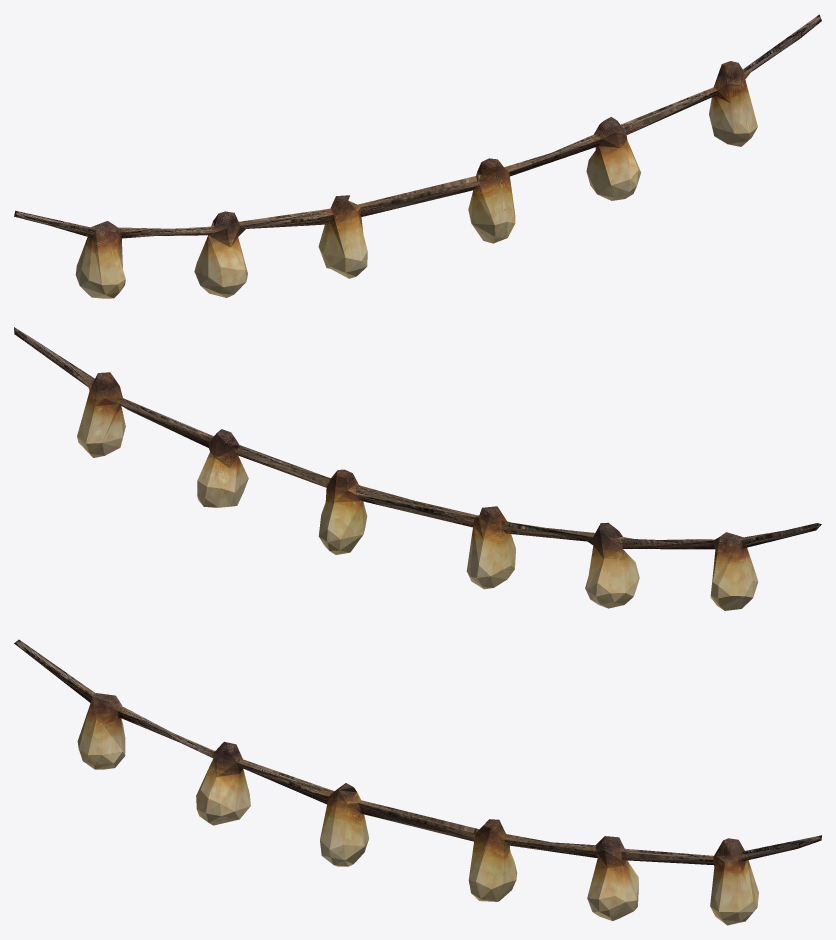
3 renders of one model, top to bottom at view 1: azimuth 30°, elevation 25°; view 2: azimuth 150°, elevation 25°; view 3: azimuth 330°, elevation 25°, orthographic.
Parts seen in each view (by area): view 1: world; view 2: world; view 3: world.
Part boxes in pixels (x1,y1,x2,y2): world: [14, 14, 821, 298]; world: [14, 327, 821, 610]; world: [14, 639, 821, 925].
Bounding box in the file's own units: 1 × 0.1719 × 0.071.
1 material, 1 textured.
